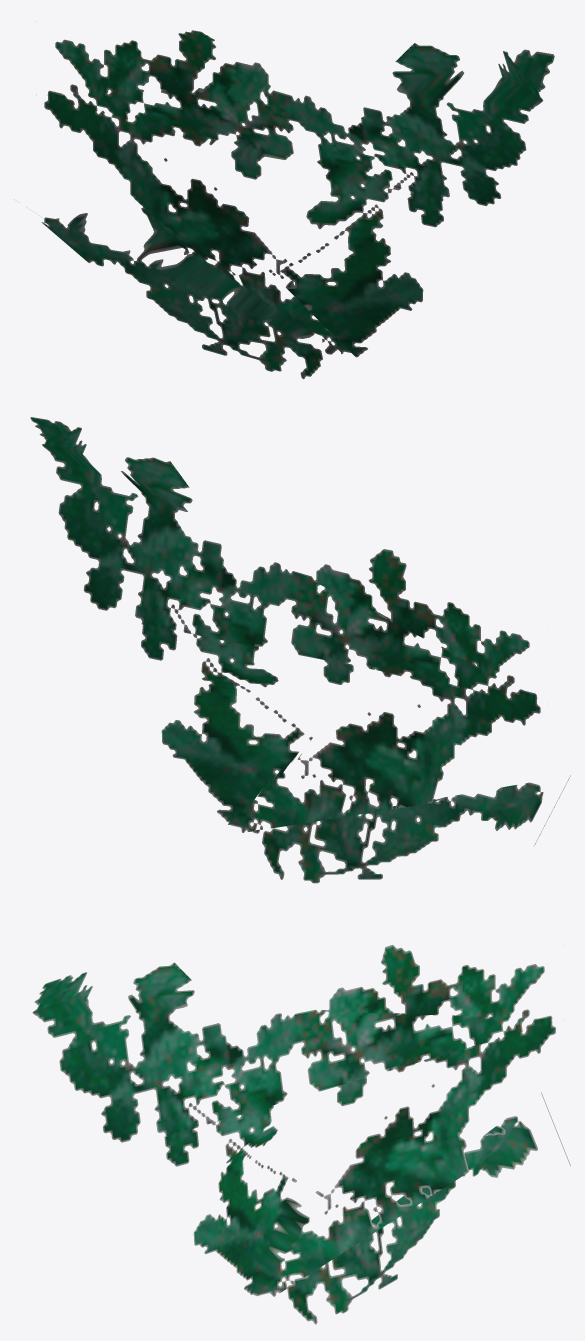
Rendered from Green Bush 4.fbx.
3 renders of one model, top to bottom at view 1: azimuth 30°, elevation 25°; view 2: azimuth 210°, elevation 25°; view 3: azimuth 270°, elevation 25°, orthographic.
Parts seen in each view (by area): view 1: Grass.003; view 2: Grass.003; view 3: Grass.003.
Part boxes in pixels (x1,y1,x2,y2): Grass.003: (14,21,554,379); Grass.003: (30,417,570,883); Grass.003: (32,945,570,1324).
Size of the model in its own units: 319 by 401 by 493.
